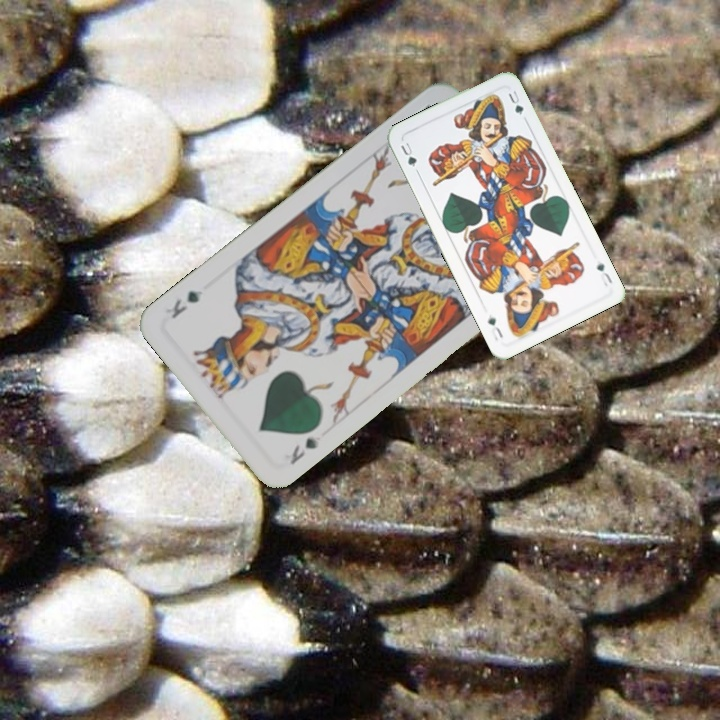GK: (286, 433, 322, 467)
GU: (396, 138, 419, 170), (593, 258, 615, 289)
